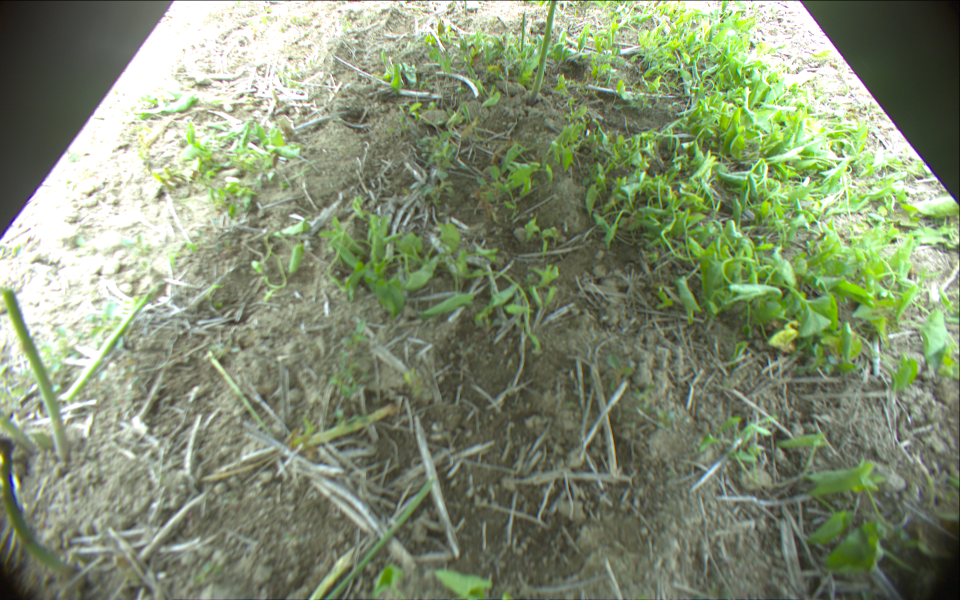aspa: (1, 286, 71, 461), (62, 284, 159, 403), (1, 433, 71, 572), (528, 1, 557, 101), (521, 8, 527, 52)
